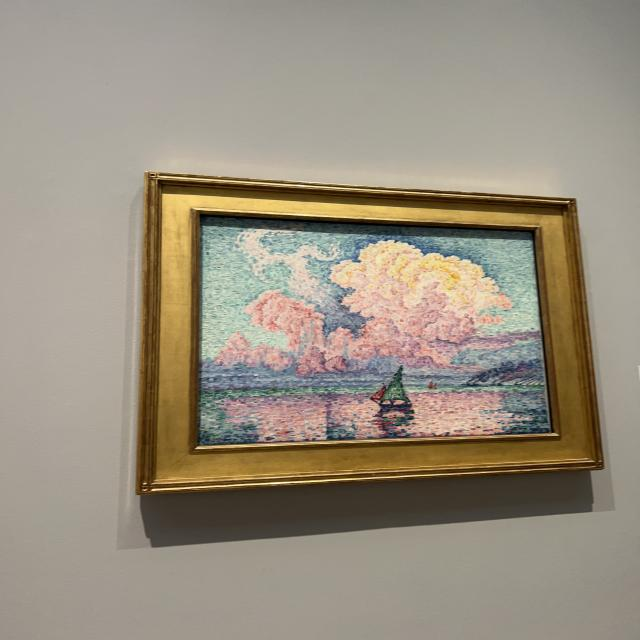sunrise: (200, 215, 553, 445)
